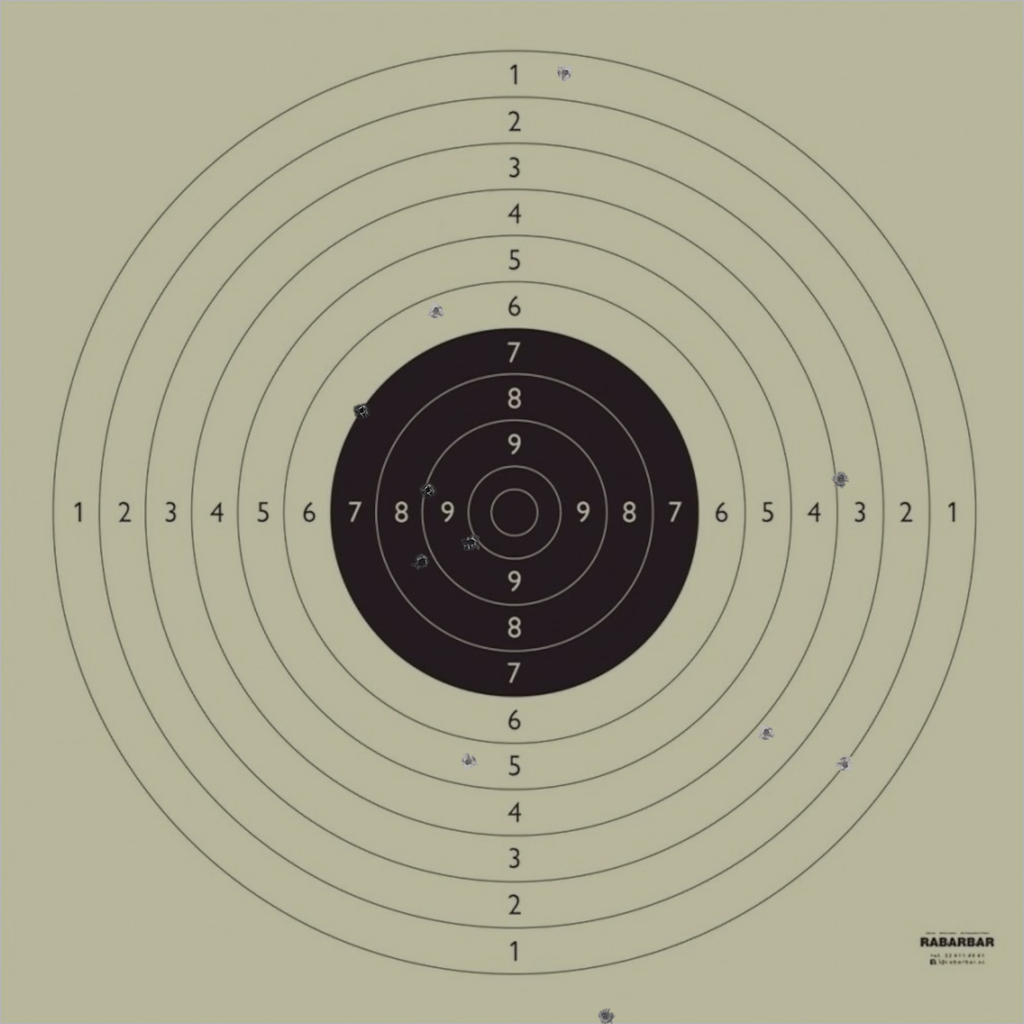0 punktow: (596, 1007, 615, 1024)
1 punkt: (556, 64, 574, 82)
10 punktow: (461, 533, 480, 552)
2 punkty: (836, 755, 854, 774)
3 punkty: (757, 723, 776, 742)
4 punkty: (831, 470, 850, 488)
5 punktow: (459, 752, 478, 771)
6 punktow: (427, 302, 445, 320)
7 punktow: (353, 401, 371, 420)
8 punktow: (412, 553, 431, 571)
9 punktow: (419, 480, 437, 499)
